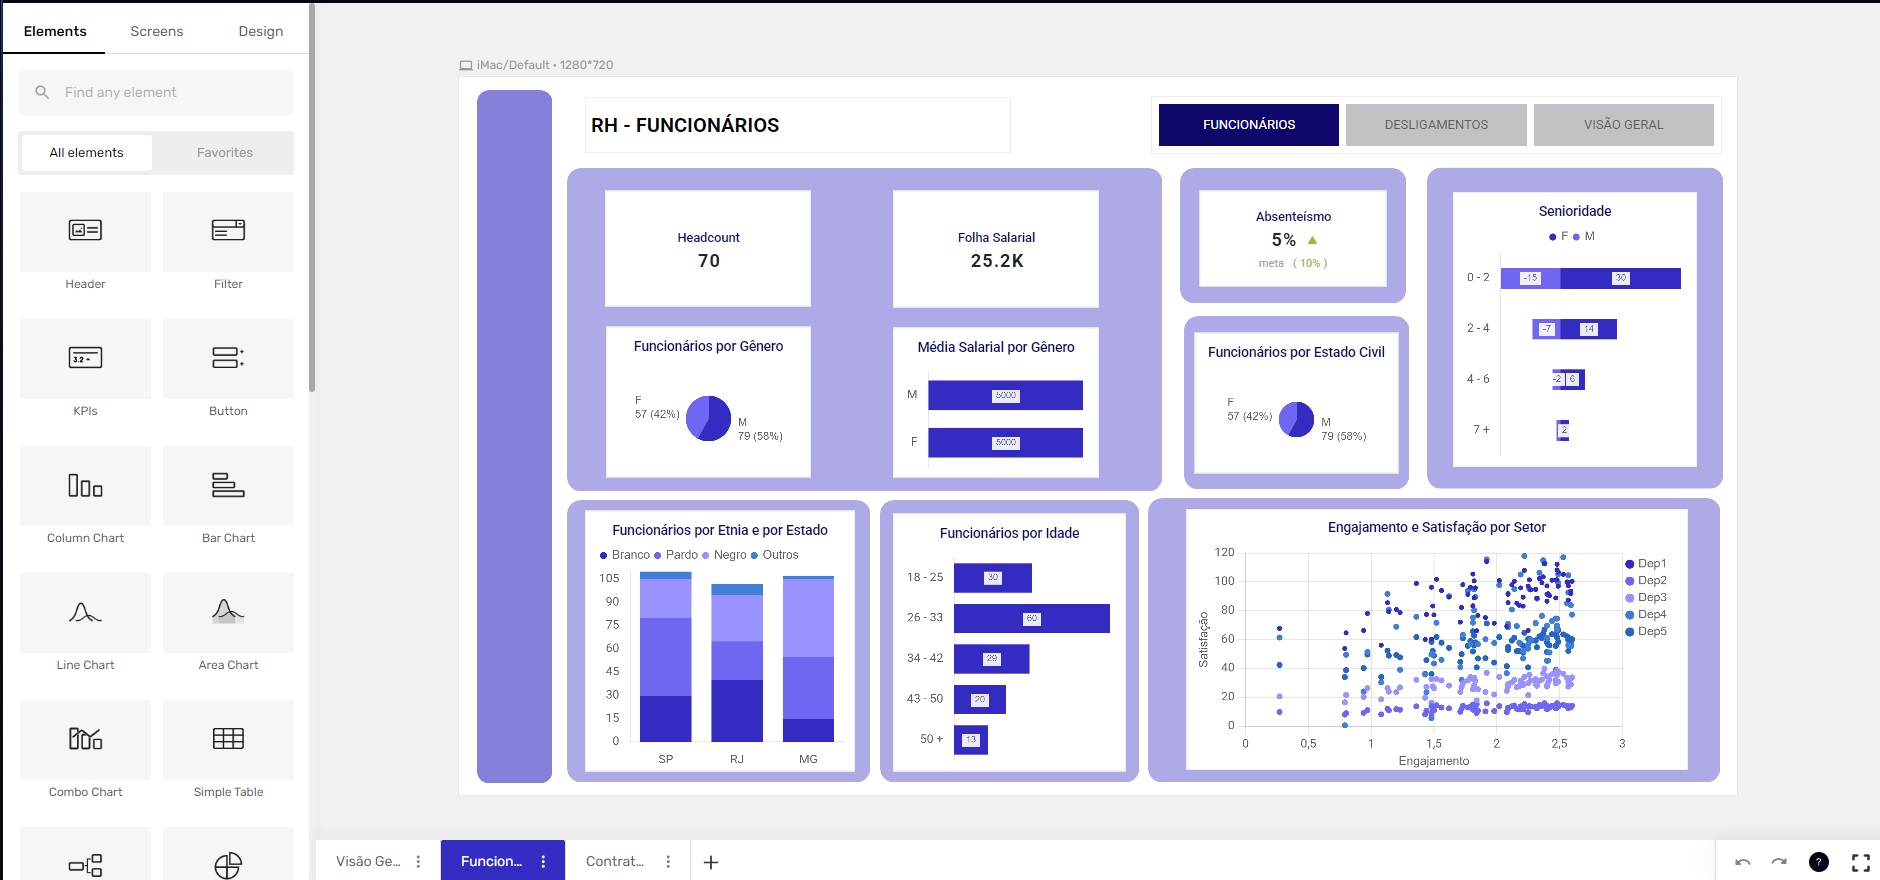

What the dashboard file says about the page in this screenshot:
{"tool":"powerbi","page":{"name":"Funcionários","canvas":[1280,720],"ordinal":1},"visuals":[{"type":"slicer","fields":{"Values":["dContratacoes.Department"]},"box":[333.8,102.6,928.8,43.5],"z":0},{"type":"card","fields":{"Values":["Sum(dContratacoes.SalaryperMonth)"]},"box":[410.2,180.9,248.6,90],"z":1000},{"type":"barChart","fields":{"Y":["Medidas.mediaSalarialFuncionariosAtivos"],"Category":["dContratacoes.Sex"]},"box":[414.1,329.9,240.9,136.4],"z":2000},{"type":"card","fields":{"Values":["Medidas.absenteismoGeral"]},"box":[737.2,186.7,156.7,64.8],"z":3000},{"type":"barChart","fields":{"Category":["dContratacoes.MaritalDesc"],"Y":["Medidas.funcionariosAtivos"]},"box":[694.7,336.7,241.9,144.2],"z":4000},{"type":"multiRowCard","fields":{"Values":["Medidas.funcionariosAtivos","Sum(dContratacoes.SalaryperMonth)","dContratacoes.Sex"]},"box":[136.7,194.7,225.8,275.5],"z":5000},{"type":"scatterChart","fields":{"X":["Medidas.engajamento"],"Category":["dContratacoes.Department"],"Series":["dContratacoes.Department"],"Size":["Medidas.funcionariosAtivos"],"Y":["Medidas.satisfacao"]},"box":[761.4,517.6,501.2,185.8],"z":6000},{"type":"barChart","fields":{"Category":["dContratacoes.AgeRange"],"Y":["Medidas.funcionariosAtivos"]},"box":[446,526.3,286.4,177.1],"z":7000},{"type":"clusteredBarChart","fields":{"Category":["dContratacoes.Seniority"],"Y":["Medidas.funcionariosAtivos"],"Series":["dContratacoes.Sex"]},"box":[968.5,186.7,294.1,291.2],"z":8000},{"type":"barChart","fields":{"Category":["dContratacoes.RaceDesc"],"Y":["Medidas.funcionariosAtivos"]},"box":[112.2,510.8,298,201.2],"z":9000},{"type":"image","box":[6.8,221.6,77.4,73.5],"z":10000},{"type":"image","box":[16.4,479.9,62.9,66.8],"z":11000},{"type":"card","fields":{"Values":["Medidas.metaAbsenteismo"]},"box":[810.7,251.5,60,22.3],"z":12000},{"type":"textbox","box":[767.2,247.7,63.9,30],"z":13000}]}

Visuals, with their boxes on the page's 1280x720 design canvas (x1, y1, x2, y2). These are canvas units, not pixel positions in the 1880x880 screenshot, which may show the page scaled, cropped or inside an application window:
slicer - dContratacoes.Department: pyautogui.locateOnScreen(334, 103, 1263, 146)
card - Sum(dContratacoes.SalaryperMonth): pyautogui.locateOnScreen(410, 181, 659, 271)
barChart - Medidas.mediaSalarialFuncionariosAtivos x dContratacoes.Sex: pyautogui.locateOnScreen(414, 330, 655, 466)
card - Medidas.absenteismoGeral: pyautogui.locateOnScreen(737, 187, 894, 252)
barChart - dContratacoes.MaritalDesc x Medidas.funcionariosAtivos: pyautogui.locateOnScreen(695, 337, 937, 481)
multiRowCard - Medidas.funcionariosAtivos x Sum(dContratacoes.SalaryperMonth): pyautogui.locateOnScreen(137, 195, 362, 470)
scatterChart - Medidas.engajamento x dContratacoes.Department: pyautogui.locateOnScreen(761, 518, 1263, 703)
barChart - dContratacoes.AgeRange x Medidas.funcionariosAtivos: pyautogui.locateOnScreen(446, 526, 732, 703)
clusteredBarChart - dContratacoes.Seniority x Medidas.funcionariosAtivos: pyautogui.locateOnScreen(968, 187, 1263, 478)
barChart - dContratacoes.RaceDesc x Medidas.funcionariosAtivos: pyautogui.locateOnScreen(112, 511, 410, 712)
image: pyautogui.locateOnScreen(7, 222, 84, 295)
image: pyautogui.locateOnScreen(16, 480, 79, 547)
card - Medidas.metaAbsenteismo: pyautogui.locateOnScreen(811, 252, 871, 274)
textbox: pyautogui.locateOnScreen(767, 248, 831, 278)
